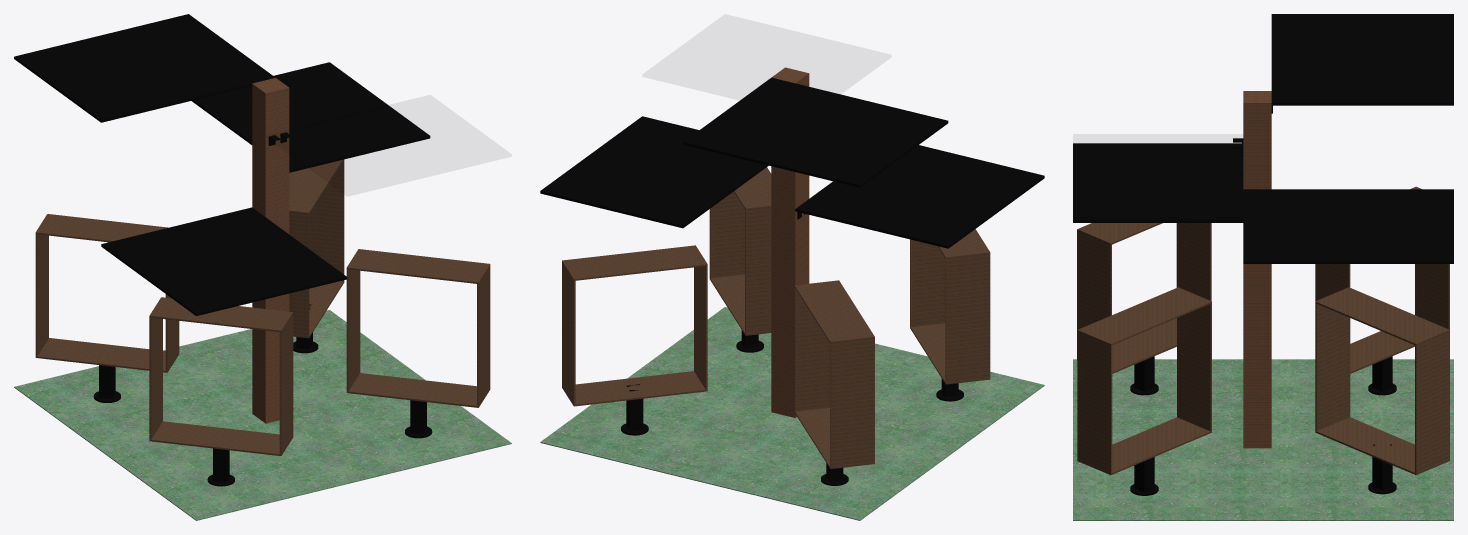
Rendered from OpenGazePavilion_2026 - Nanor Deratamian.fbx.
The picture shows the model from 3 angles, left to right: view 1: azimuth 30°, elevation 25°; view 2: azimuth 150°, elevation 25°; view 3: azimuth 270°, elevation 25°; orthographic projection. The views are drawn at different scales.
Parts seen in each view (by area): view 1: Base/Ground, Seat, Roof/topper 4, Roof/topper 1, Roof/topper 2, Column, Spinning Base; view 2: Seat, Base/Ground, Roof/topper 4, Roof/topper 1, Roof/topper 2, Column, Spinning Base; view 3: Seat, Base/Ground, Roof/topper 4, Roof/topper 2, Roof/topper 1, Column, Spinning Base.
Boxes of the visible parts, x1,y1,x2,y2 form: Base/Ground: (14,310,511,520); Seat: (35,159,490,455); Roof/topper 4: (14,14,275,122); Roof/topper 1: (101,207,347,315); Roof/topper 2: (191,62,430,172); Column: (252,78,289,423); Spinning Base: (93,304,432,486); Seat: (562,167,990,468); Base/Ground: (540,307,1044,520); Roof/topper 4: (683,77,948,187); Roof/topper 1: (795,145,1044,248); Roof/topper 2: (540,116,768,228); Column: (771,67,809,417); Spinning Base: (621,330,963,485); Seat: (1077,186,1449,474); Base/Ground: (1073,359,1453,520); Roof/topper 4: (1271,14,1453,105); Roof/topper 2: (1243,189,1453,263); Roof/topper 1: (1073,143,1243,222); Column: (1243,91,1271,448); Spinning Base: (1130,356,1396,495).
Size of the model in its own units: 4 by 4 by 4.01.
8 materials, 3 textured.
